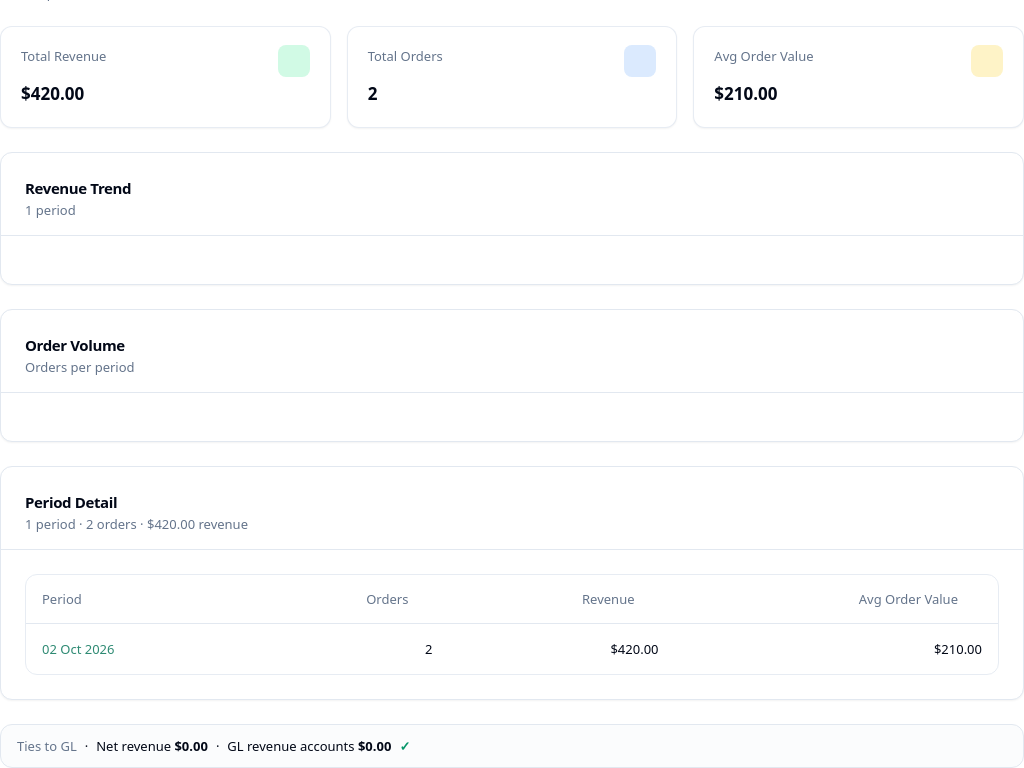
Test: SalesAnalyticsPage drill-down (#596) › drills a period row with its interval
(page scrolled)
Click the button with aria-label "Show documents for 02 Oct 2026" at coordinates (78, 648), box [42,640,114,658]
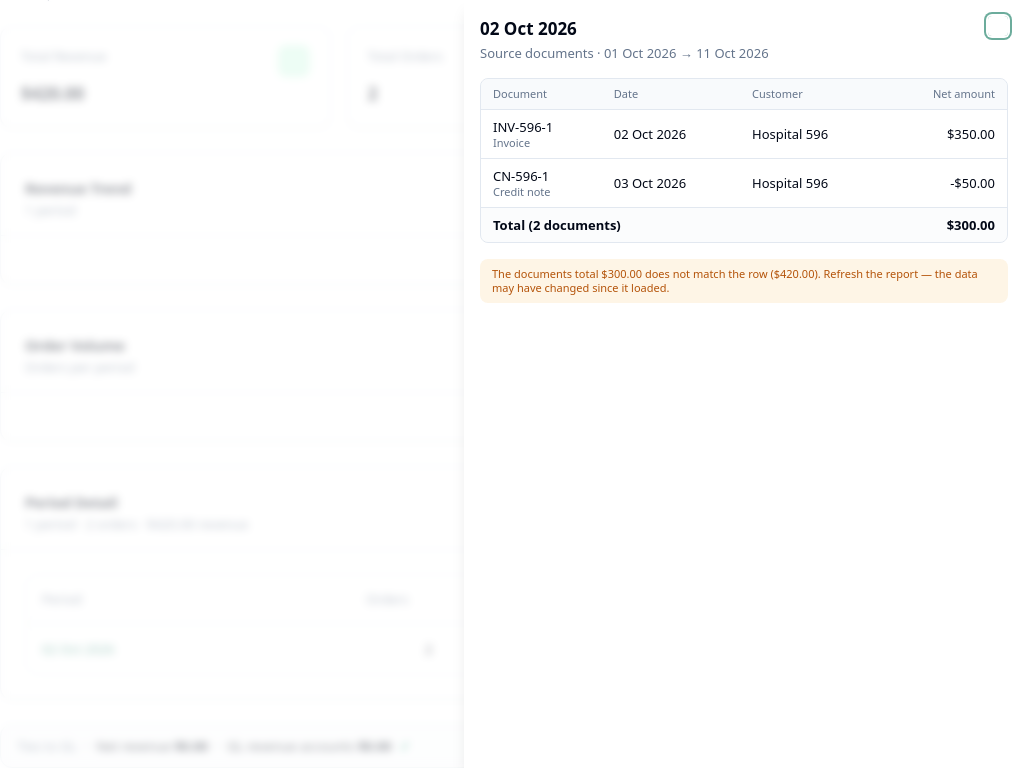
Expected: the dialog is shown, [464,0,1023,767]
